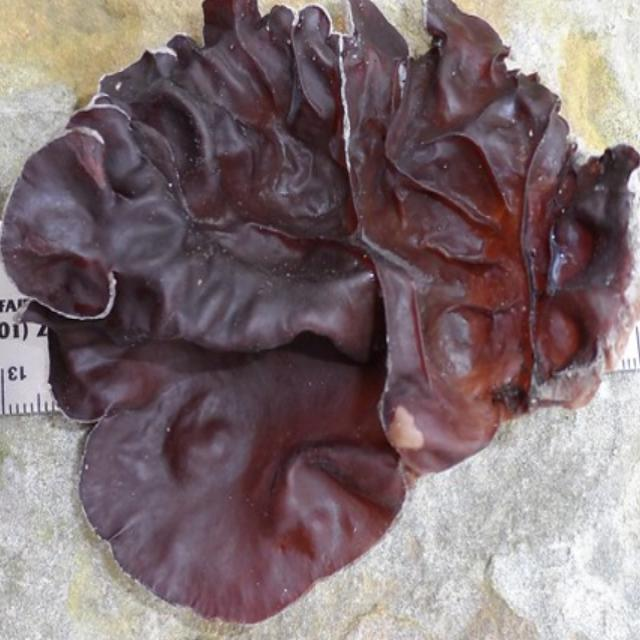Matang: (7, 8, 636, 614)
